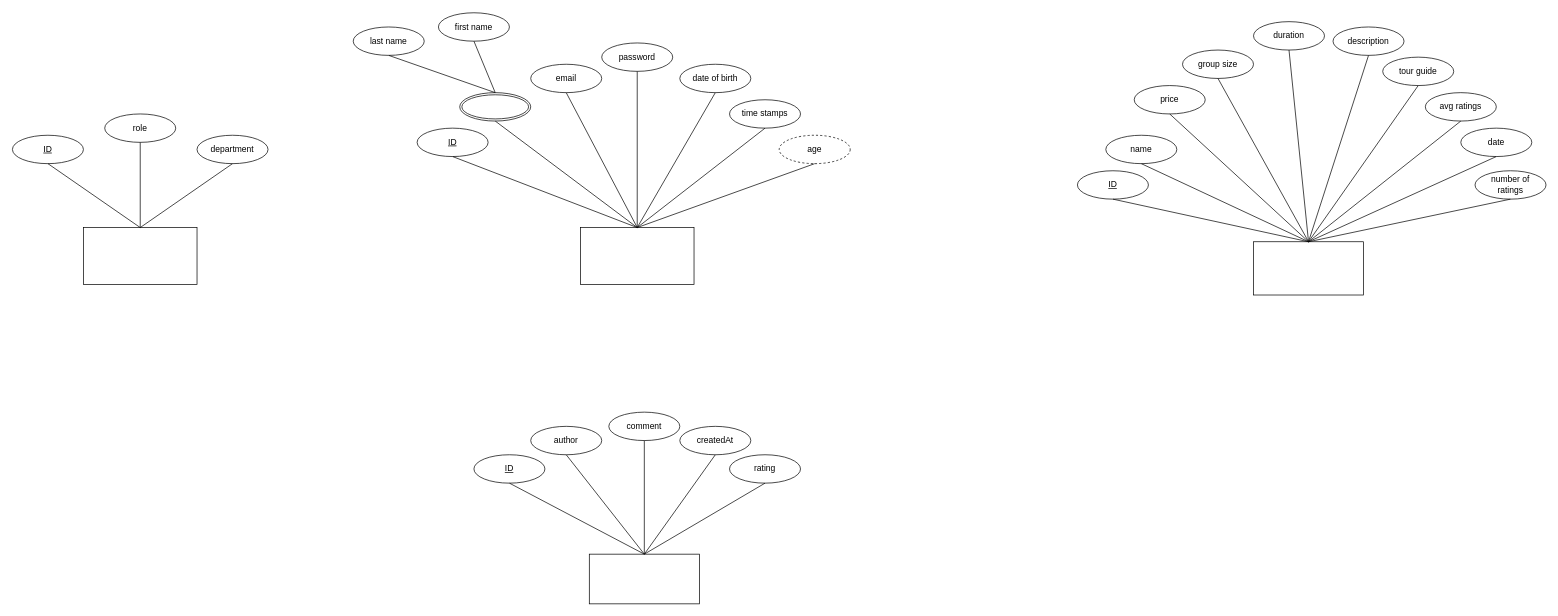
This 1558x616 diagram has some shape labels left out. The shapes that lost their labels are listed below. From the top down, each one's centre as x and y in pixels, then its label:
At [495,106]: "full name".
At [140,255]: "employee".
At [637,255]: "User".
At [1308,268]: "Tour".
At [644,578]: "Review".
